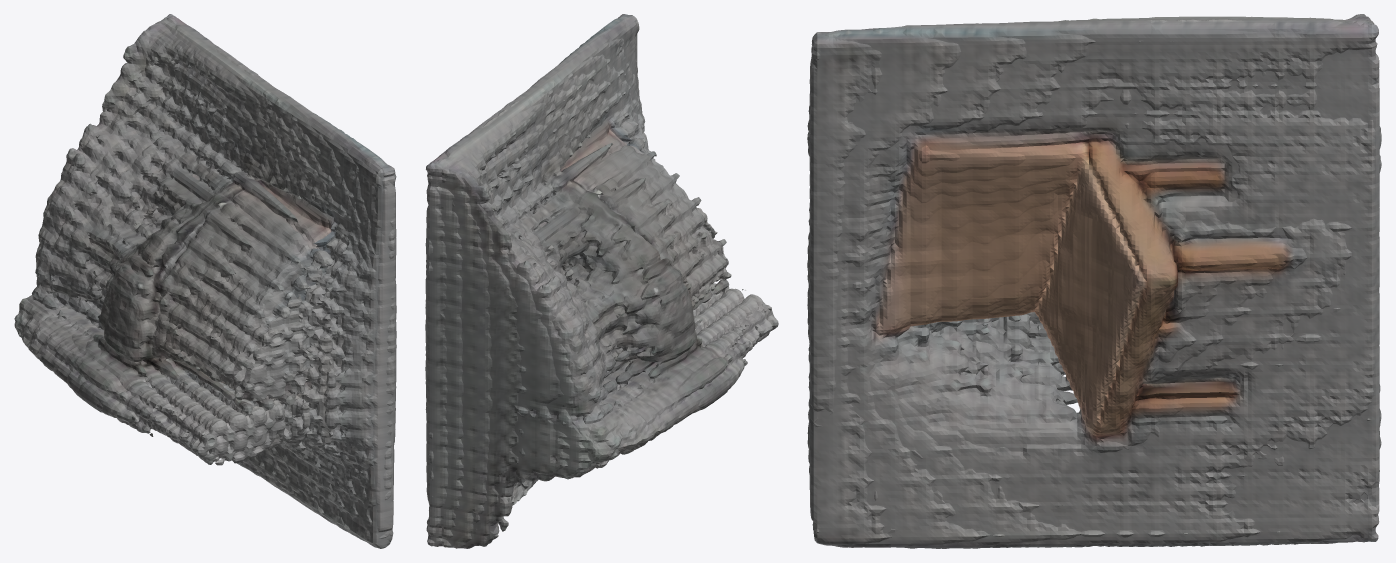
The model's file is chair-preprocessed-resolution256-original.glb.
The picture shows the model from 3 angles, left to right: view 1: azimuth 30°, elevation 25°; view 2: azimuth 150°, elevation 25°; view 3: azimuth 270°, elevation 25°; orthographic projection. The views are drawn at different scales.
Visible parts, largest first — view 1: world; view 2: world; view 3: world.
Part boxes in pixels (box(x1,y1,x2,y2)): world: box(14, 14, 396, 548); world: box(425, 14, 778, 548); world: box(807, 14, 1381, 548).
Size of the model in its own units: 0.653 by 1.02 by 1.01.
